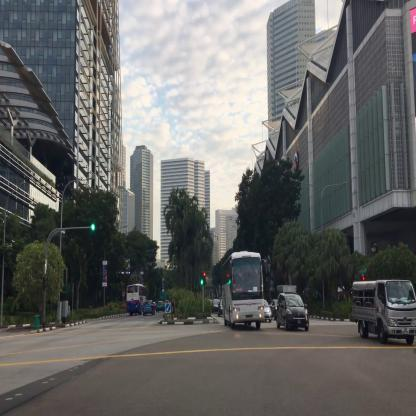green_traffic_light: (91, 224, 102, 230), (200, 272, 203, 285)
